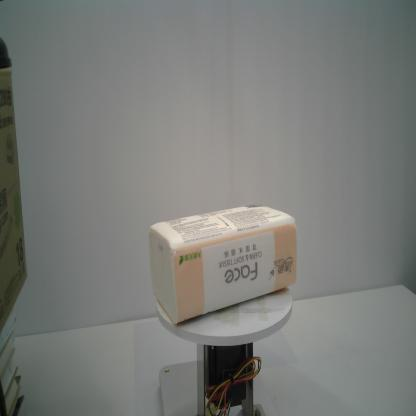Tissue: (148, 203, 298, 325)
